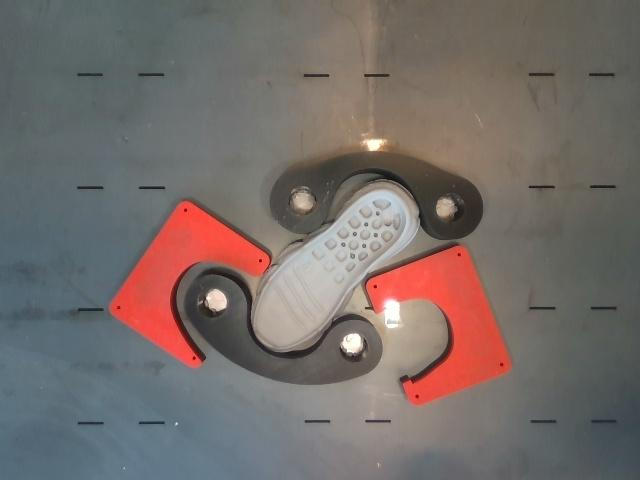shoes: (254, 191, 407, 348)
